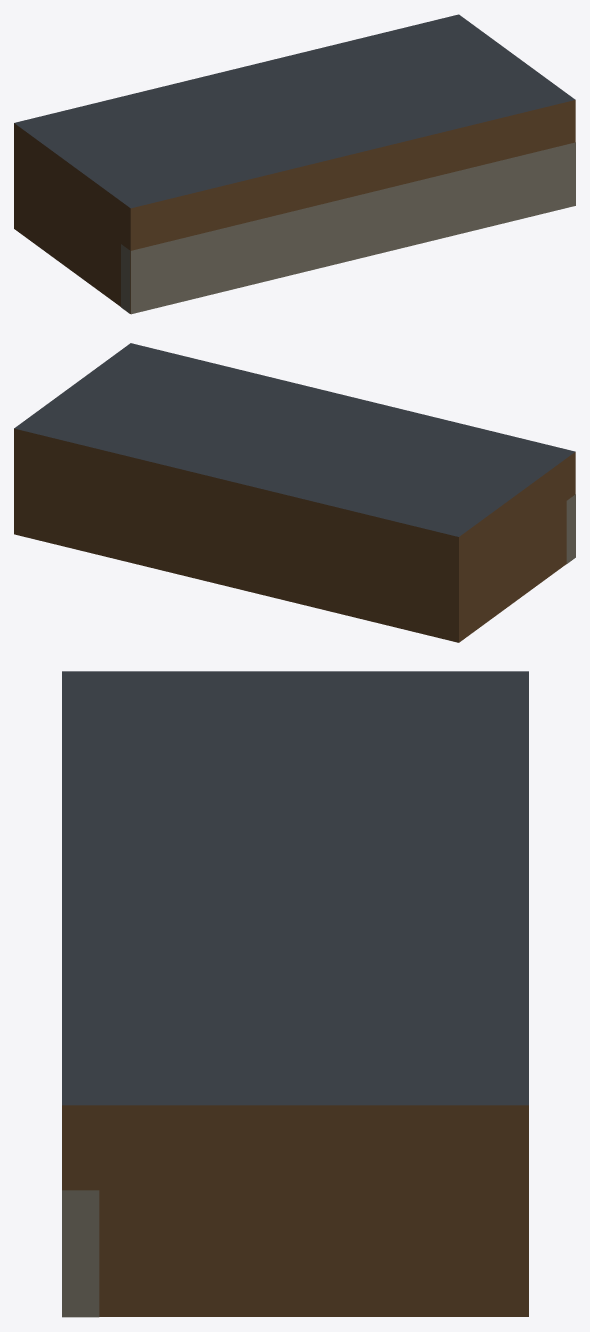
File: fort-stables.zfix-v16.lod2.glb
3 renders of one model, top to bottom at view 1: azimuth 30°, elevation 25°; view 2: azimuth 150°, elevation 25°; view 3: azimuth 270°, elevation 25°, orthographic. The views are drawn at different scales.
Parts seen in each view (by area): view 1: fort-stables; view 2: fort-stables; view 3: fort-stables.
Part boxes in pixels (x1,y1,x2,y2): fort-stables: (14, 14, 575, 314); fort-stables: (14, 343, 575, 642); fort-stables: (62, 671, 528, 1317).
Bounding box in the file's own units: 22.03 × 5.02 × 10.01.
